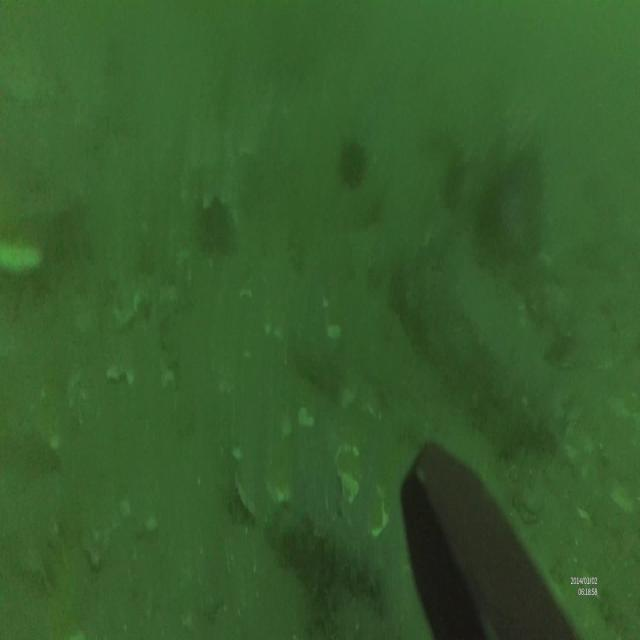echinus: (335, 139, 370, 191)
